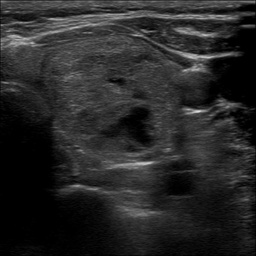mass: (40, 35, 173, 158)
